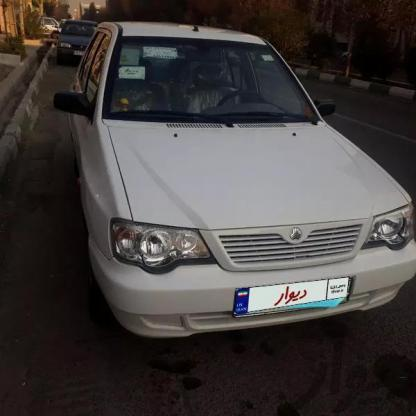Car: (61, 26, 416, 346), (43, 12, 102, 64)
